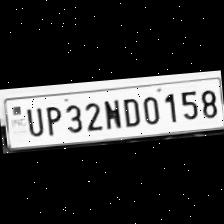0: (140, 90, 162, 127)
1: (159, 88, 180, 124)
2: (82, 98, 104, 133)
3: (62, 100, 84, 135)
5: (176, 87, 199, 122)
8: (196, 85, 220, 120)
D: (120, 94, 142, 129)
N: (100, 95, 122, 131)
P: (42, 102, 64, 136)
U: (21, 103, 44, 137)
